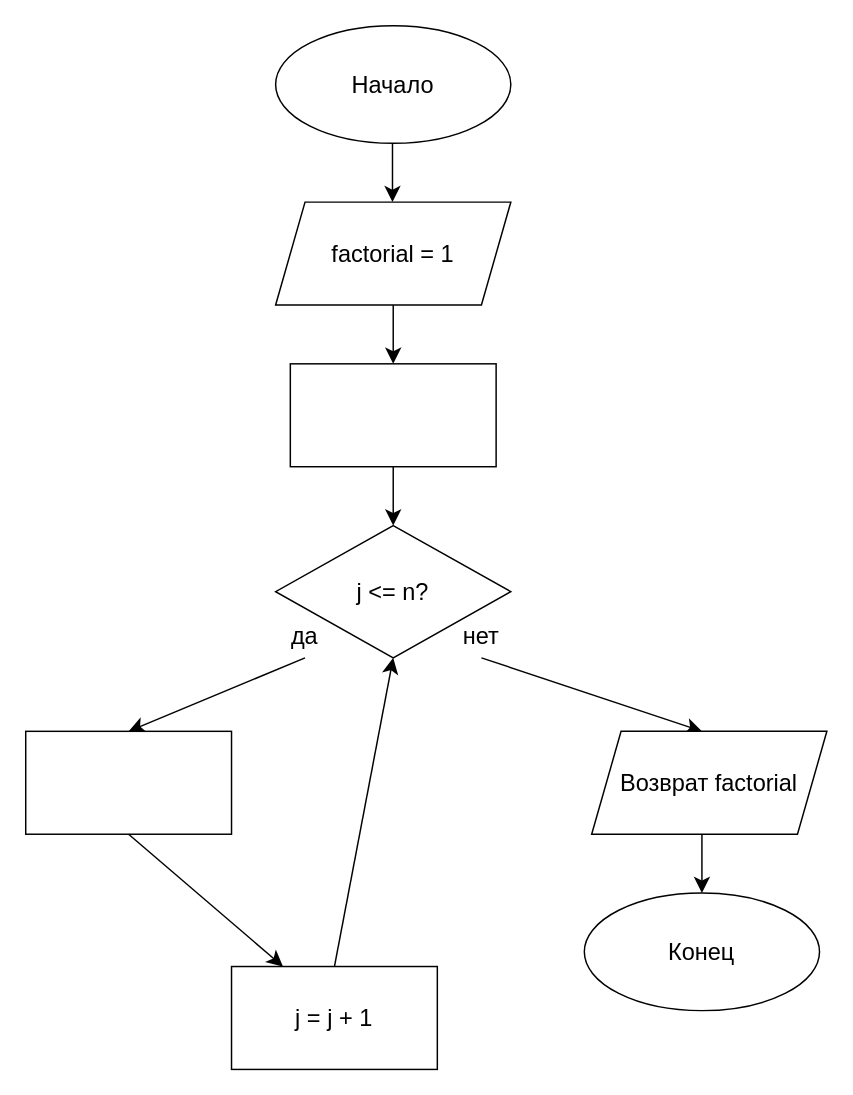
Image size: 853x1095. Some labels were removed from this diagram. Here are the shapes that lost their labels. From the top down, the box of each, then its label:
(289, 362, 496, 467): j = 1
(24, 730, 232, 834): factorial = factorial * x
